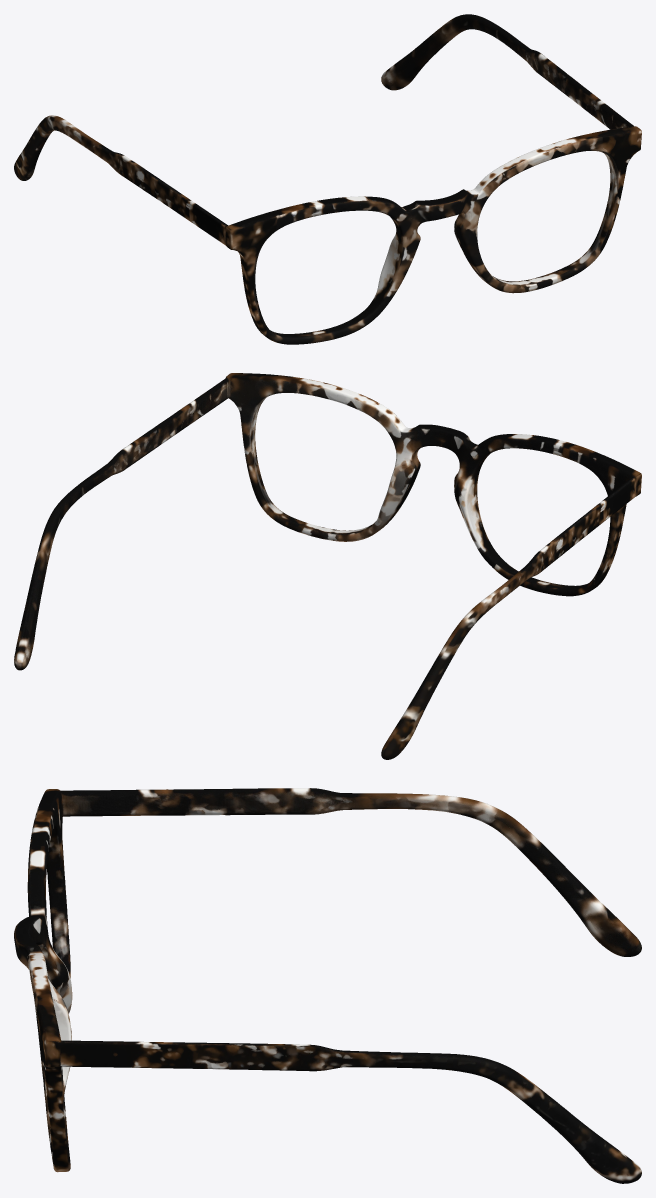
File: Barstow.glb
3 views of the same model, one above another, from view 1: azimuth 30°, elevation 25°; view 2: azimuth 150°, elevation 25°; view 3: azimuth 270°, elevation 25° (orthographic). The views are drawn at different scales.
Bounding box in the file's own units: 1.88 × 0.6132 × 1.9.
1 material, 1 textured.
